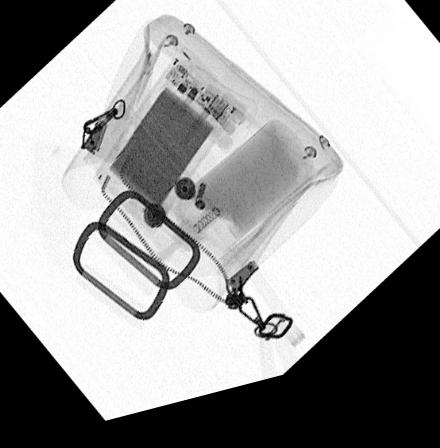Powerbank: (91, 63, 238, 240)
